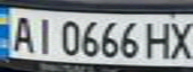0: (54, 17, 81, 57)
6: (118, 18, 145, 60), (78, 17, 103, 59), (100, 18, 121, 60)
A: (6, 11, 39, 53)
H: (142, 18, 175, 61)
I: (30, 15, 57, 55)
X: (166, 17, 193, 61)
